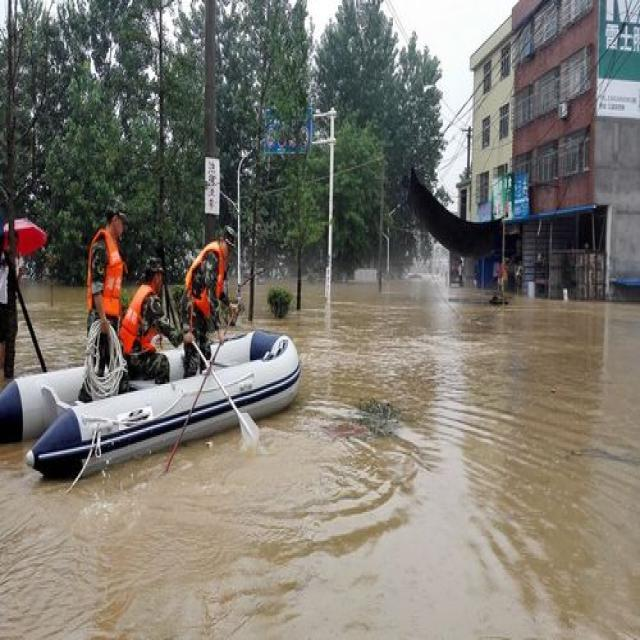rescuer: (184, 212, 242, 373), (80, 202, 133, 356), (123, 247, 177, 396)
